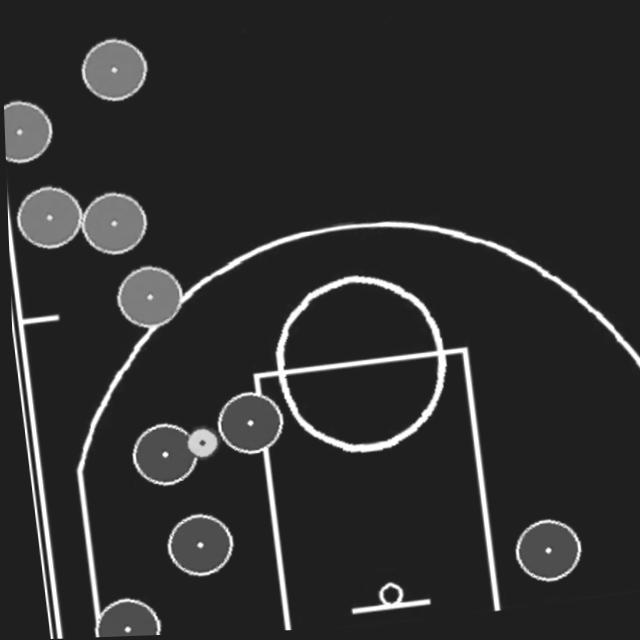Basketball: (182, 424, 218, 462)
Team_A: (159, 512, 232, 580), (507, 520, 580, 588), (211, 390, 284, 458), (126, 421, 196, 488), (86, 595, 157, 638)
Team_B: (13, 183, 84, 252), (78, 35, 149, 104), (112, 263, 183, 330), (76, 190, 147, 257), (3, 99, 54, 165)
